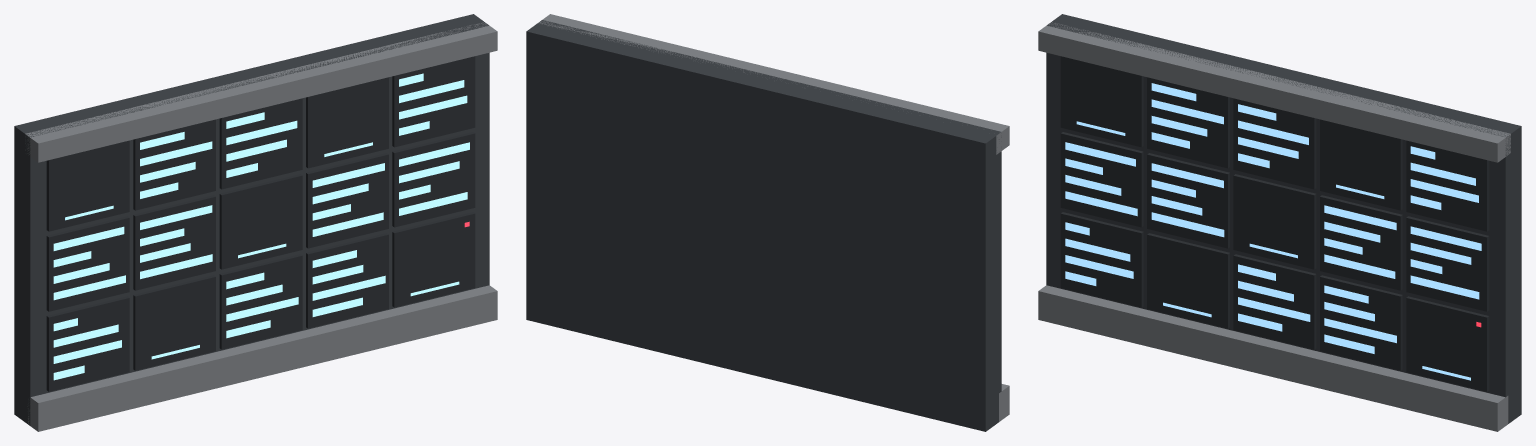
File: cvt_prp_screen_wall_a.glb
The picture shows the model from 3 angles, left to right: view 1: azimuth 30°, elevation 25°; view 2: azimuth 150°, elevation 25°; view 3: azimuth 330°, elevation 25°; orthographic projection.
Parts seen in each view (by area): view 1: mesh_intact; view 2: mesh_intact; view 3: mesh_intact.
Part boxes in pixels (bbox=[...]): mesh_intact: bbox=[14, 14, 497, 431]; mesh_intact: bbox=[526, 14, 1009, 431]; mesh_intact: bbox=[1038, 14, 1521, 431].
Bounding box in the file's own units: 10 × 6 × 0.9.
